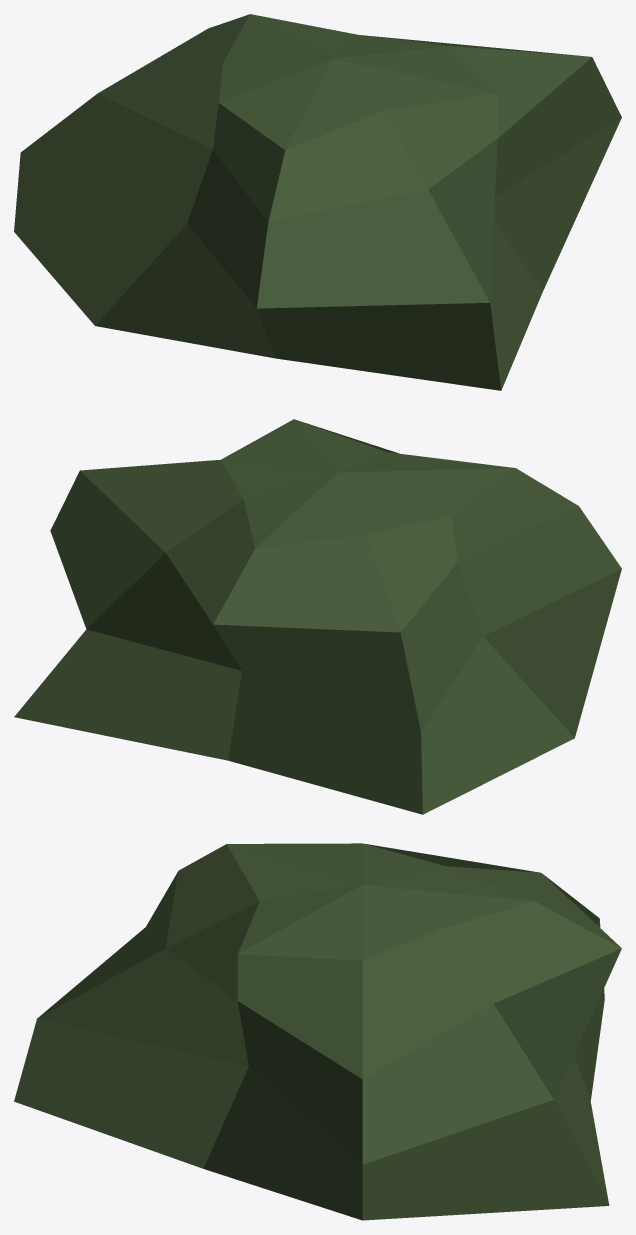
File: SM_Scrub.fbx
3 renders of one model, top to bottom at view 1: azimuth 30°, elevation 25°; view 2: azimuth 150°, elevation 25°; view 3: azimuth 270°, elevation 25°, orthographic. The views are drawn at different scales.
Visible parts, largest first — view 1: SM_Scrub; view 2: SM_Scrub; view 3: SM_Scrub.
Boxes of the visible parts, x1,y1,x2,y2 form: SM_Scrub: [14, 14, 621, 390]; SM_Scrub: [14, 419, 621, 814]; SM_Scrub: [14, 843, 621, 1220].
Bounding box in the file's own units: 277 × 105 × 267.
